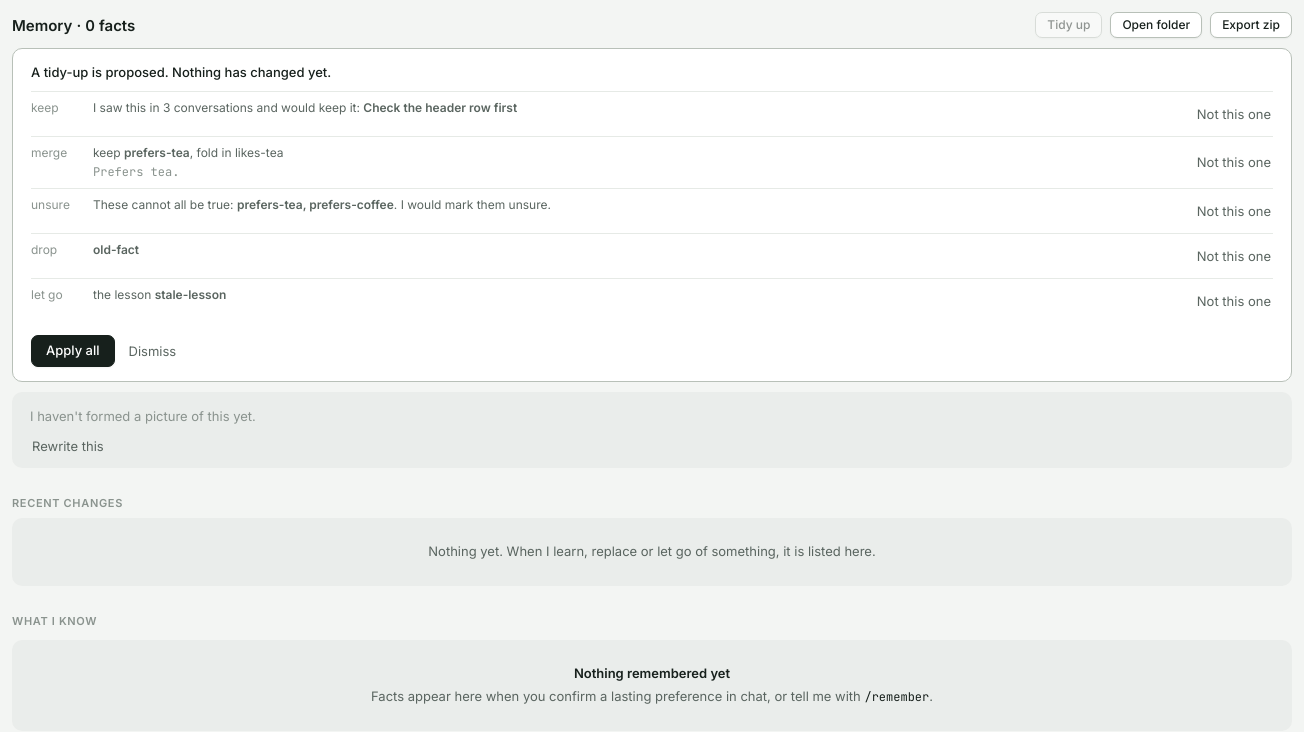
Test: the pending tidy-up › takes one row out and keeps the rest
The width and height of the screenshot is (1304, 732).
Click the button "Not this one" in the row of "Check the header row first". click: (1234, 114)
box: [1195, 100, 1273, 128]
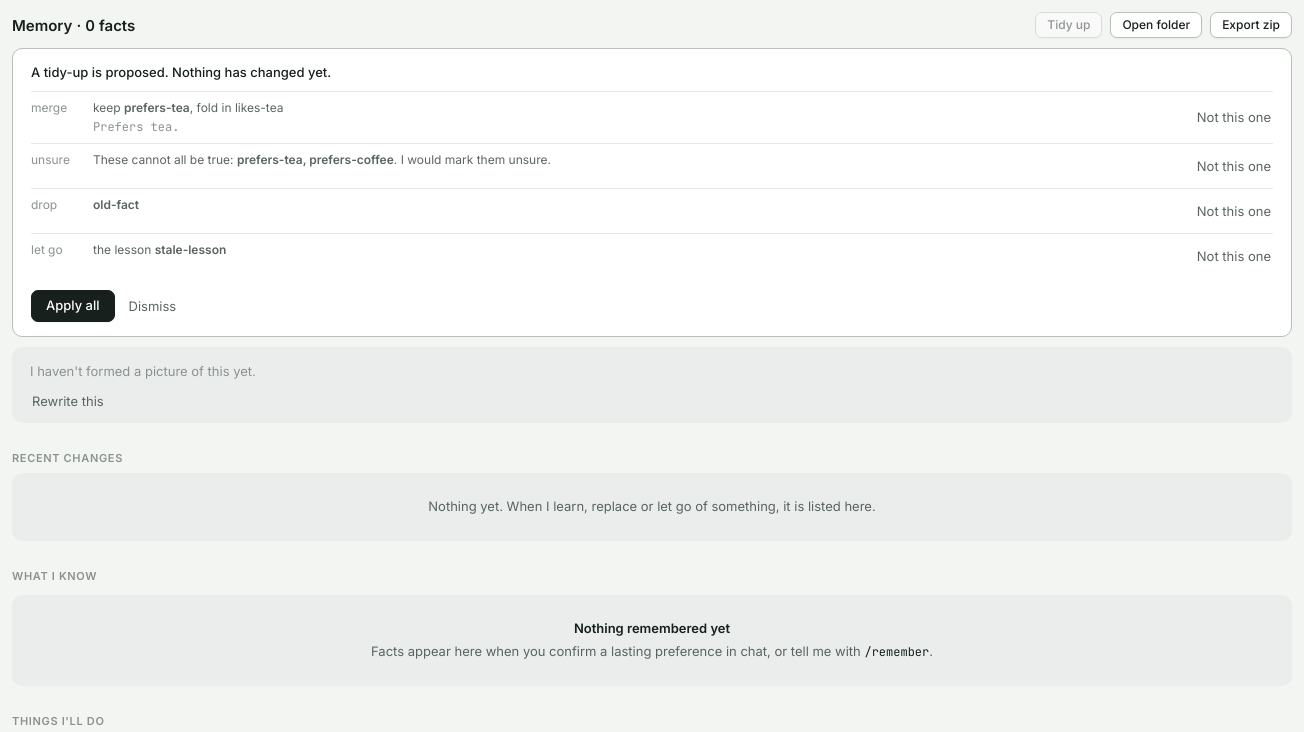
Expected: the text "the lesson stale-lesson" is shown, [93, 242, 226, 256]
Now the text "would keep it" is gone
